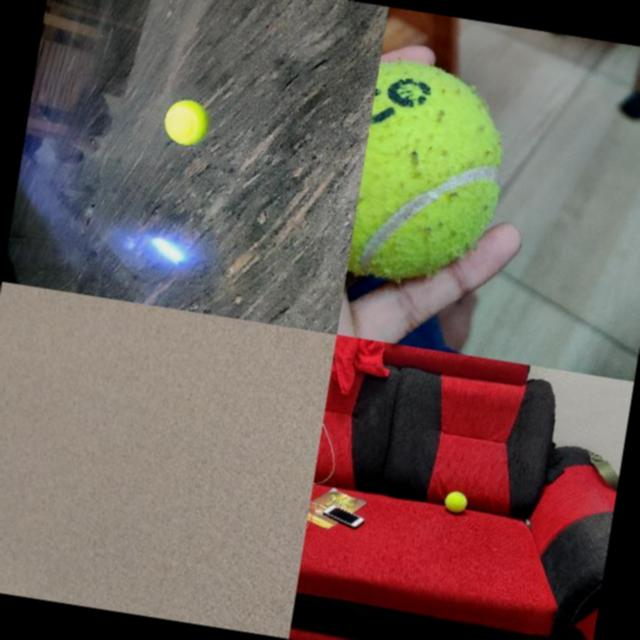tennis-ball: (346, 56, 518, 296), (160, 96, 212, 148), (442, 490, 468, 514)
